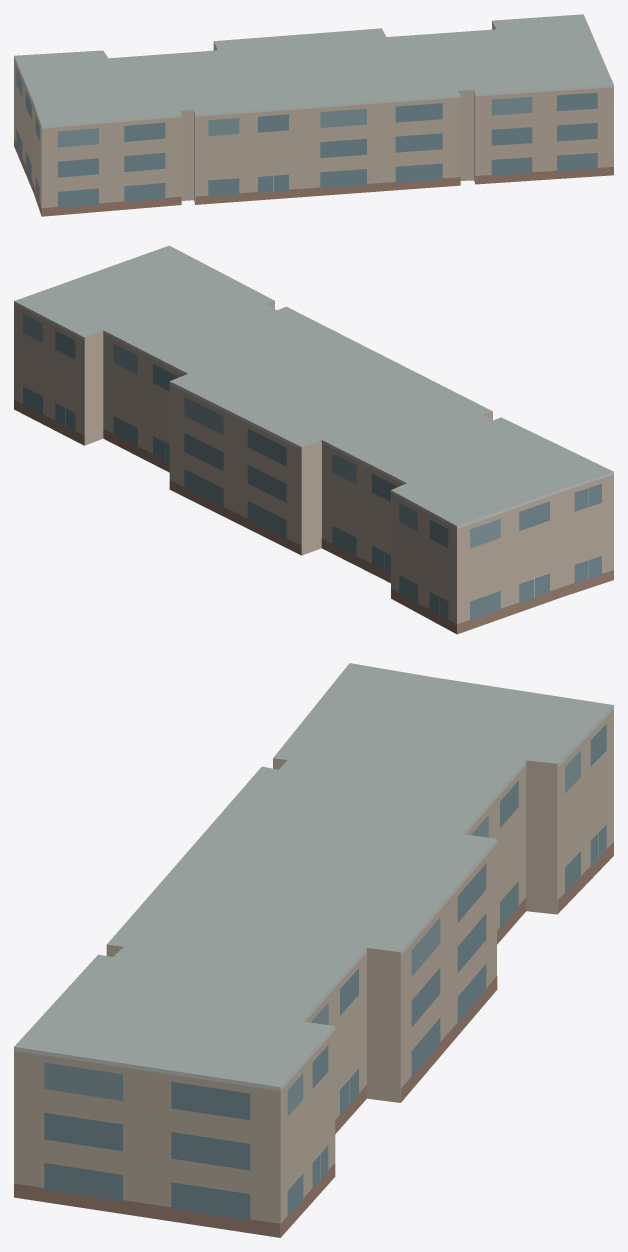
The model's file is survey-upis-33041633.glb.
3 renders of one model, top to bottom at view 1: azimuth 30°, elevation 25°; view 2: azimuth 150°, elevation 25°; view 3: azimuth 270°, elevation 25°, orthographic. The views are drawn at different scales.
Parts seen in each view (by area): view 1: survey-upis-33041633.tmp; view 2: survey-upis-33041633.tmp; view 3: survey-upis-33041633.tmp.
Boxes of the visible parts, x1=… form: survey-upis-33041633.tmp: x1=14, y1=14, x2=613, y2=216; survey-upis-33041633.tmp: x1=14, y1=245, x2=613, y2=634; survey-upis-33041633.tmp: x1=14, y1=663, x2=613, y2=1237.
Size of the model in its own units: 55.21 by 9.15 by 33.
